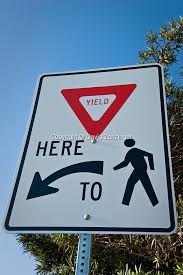yield_sign: (6, 62, 175, 234)
